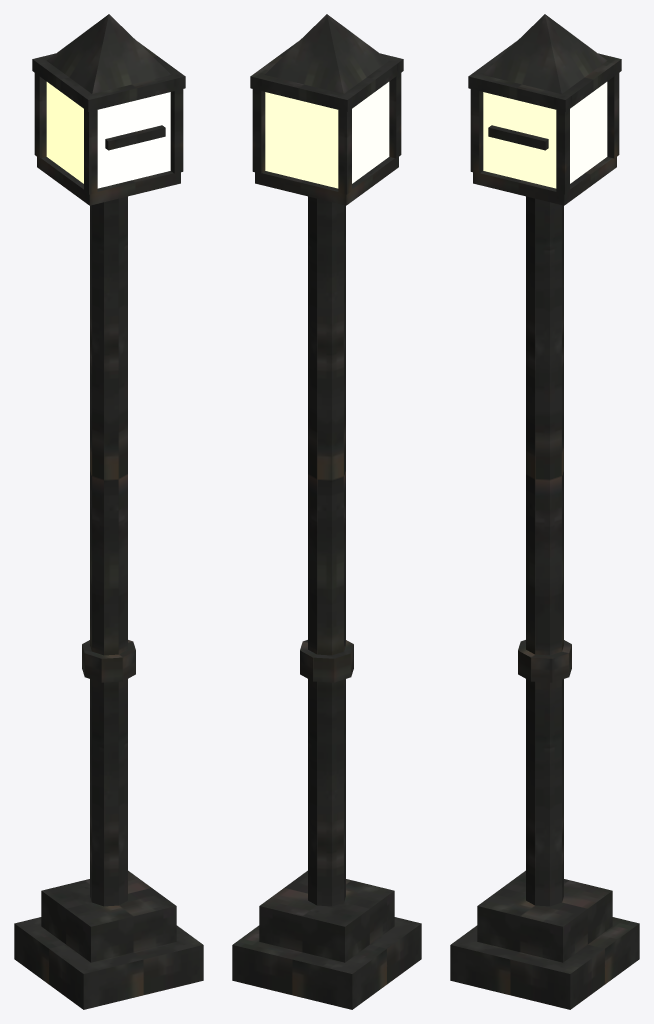
Rendered from prp_lamppost_a_LOD1.glb.
The picture shows the model from 3 angles, left to right: view 1: azimuth 30°, elevation 25°; view 2: azimuth 150°, elevation 25°; view 3: azimuth 330°, elevation 25°; orthographic projection.
Parts seen in each view (by area): view 1: prp_lamppost_a_iron, prp_lamppost_a_lantern_glass_emissive, prp_lamppost_a_iron_cap; view 2: prp_lamppost_a_iron, prp_lamppost_a_lantern_glass_emissive, prp_lamppost_a_iron_cap; view 3: prp_lamppost_a_iron, prp_lamppost_a_lantern_glass_emissive, prp_lamppost_a_iron_cap.
Boxes of the visible parts, left/top/right/bottom form: prp_lamppost_a_iron: left=14, top=41, right=203, bottom=1009; prp_lamppost_a_lantern_glass_emissive: left=46, top=82, right=170, bottom=188; prp_lamppost_a_iron_cap: left=46, top=14, right=171, bottom=93; prp_lamppost_a_iron: left=232, top=41, right=421, bottom=1009; prp_lamppost_a_lantern_glass_emissive: left=265, top=82, right=389, bottom=188; prp_lamppost_a_iron_cap: left=264, top=14, right=389, bottom=93; prp_lamppost_a_iron: left=450, top=41, right=639, bottom=1009; prp_lamppost_a_lantern_glass_emissive: left=483, top=82, right=607, bottom=188; prp_lamppost_a_iron_cap: left=482, top=14, right=607, bottom=93.
Size of the model in its own units: 0.42 by 3.2 by 0.42.
3 materials, 2 textured.
